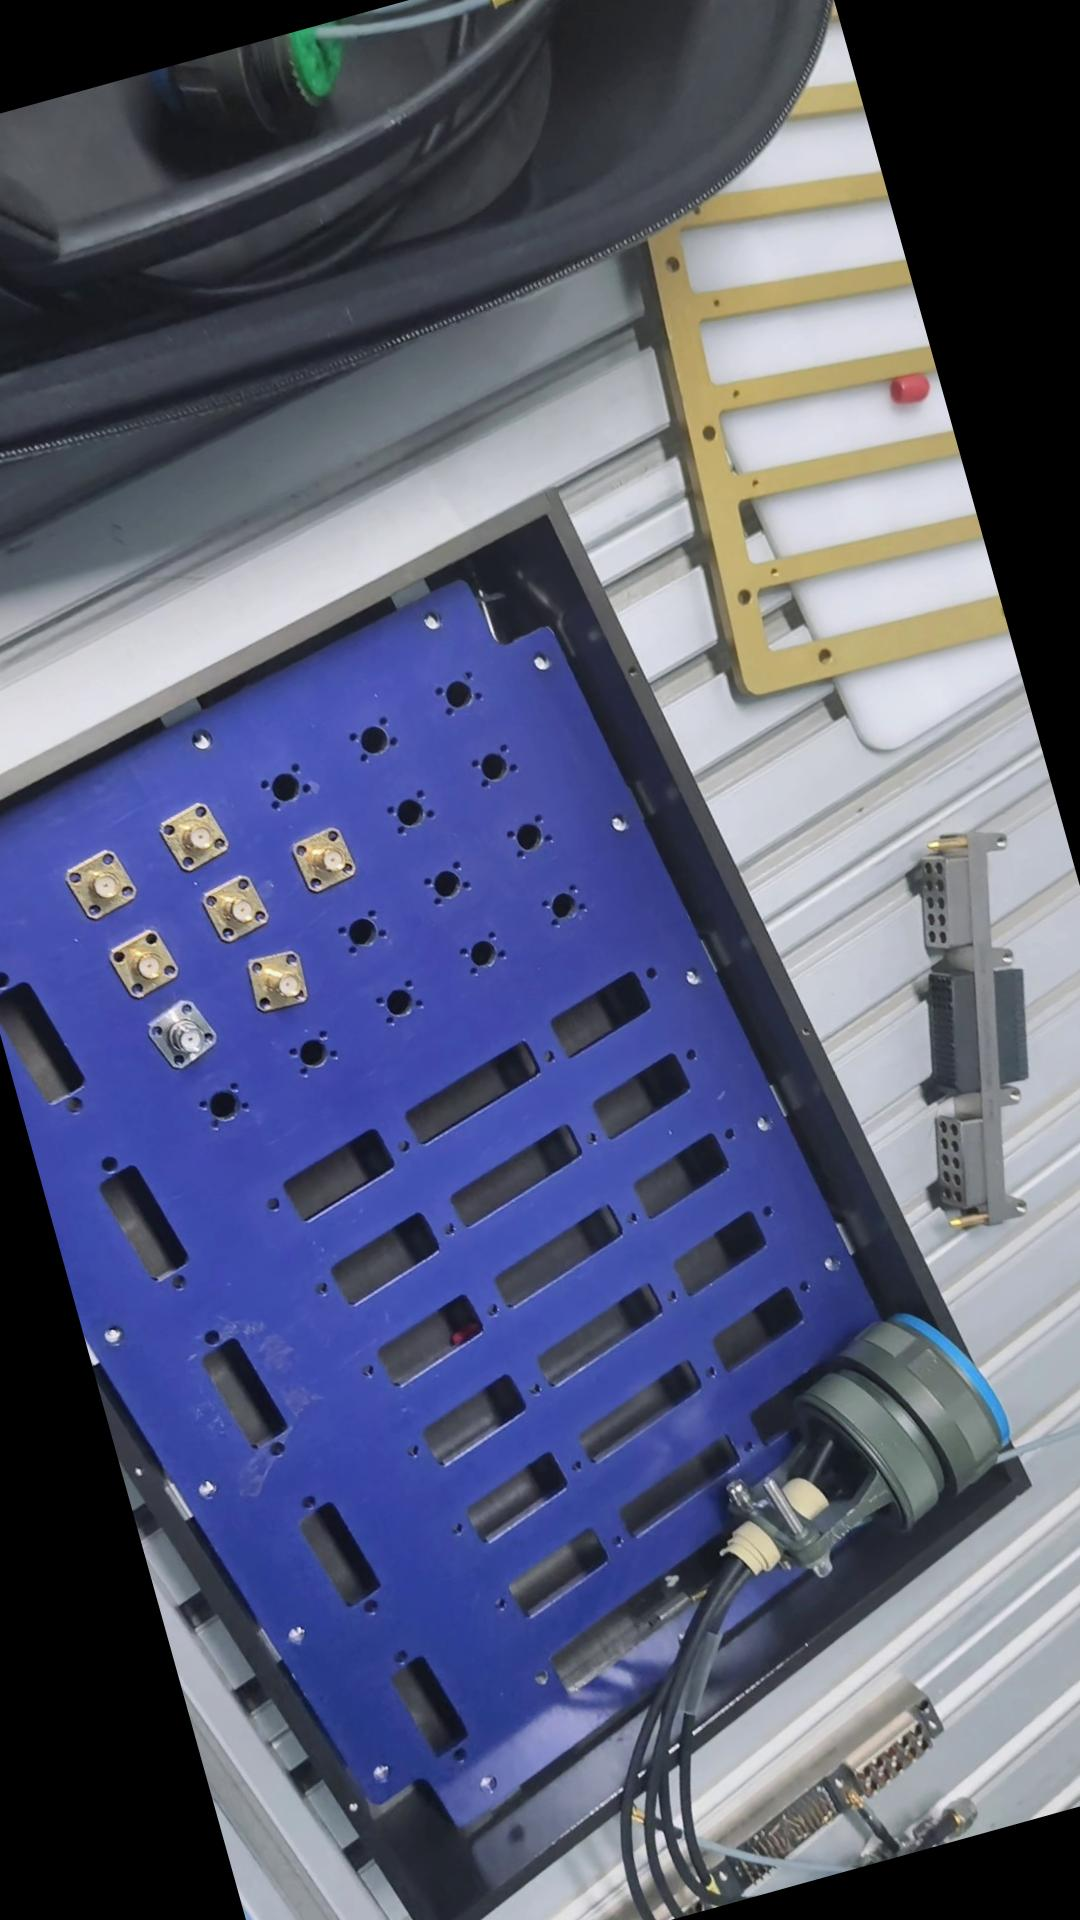SMA: (142, 986, 228, 1077), (107, 920, 193, 1000), (61, 844, 142, 924), (196, 866, 280, 945), (243, 942, 324, 1018), (160, 796, 236, 873), (290, 825, 367, 898)
